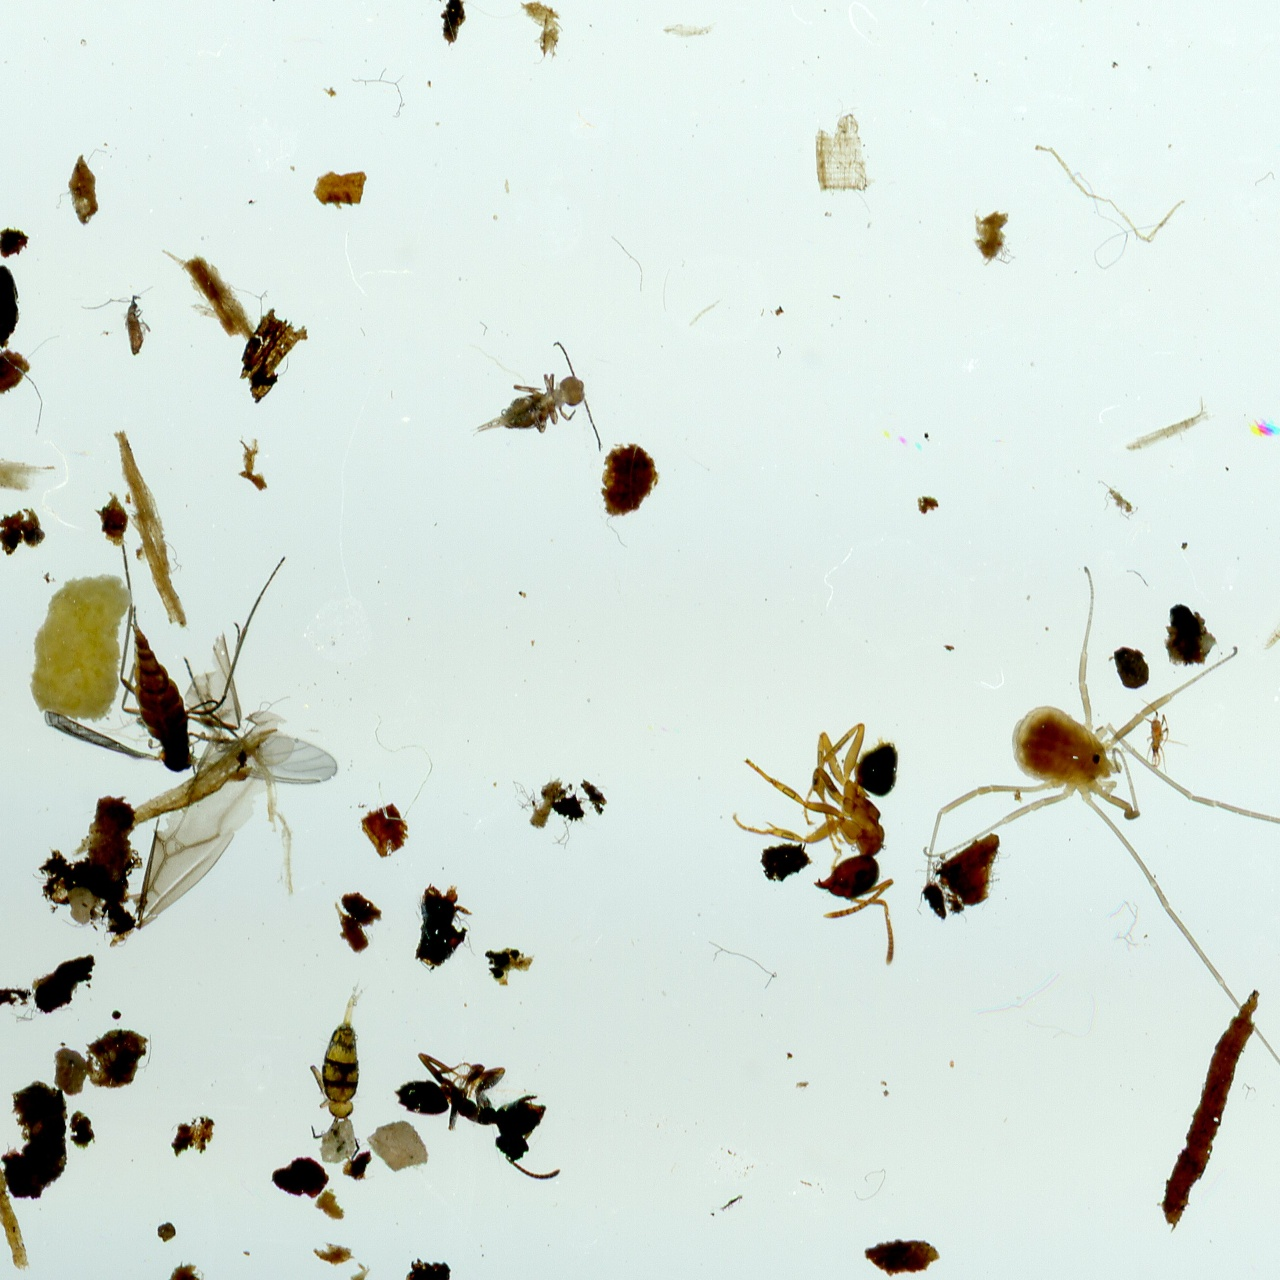arthropod: (853, 533, 1280, 1228), (729, 719, 904, 969), (115, 537, 290, 784), (379, 1040, 585, 1189), (443, 332, 613, 497), (306, 973, 372, 1166), (1133, 696, 1192, 776), (121, 291, 155, 360)
